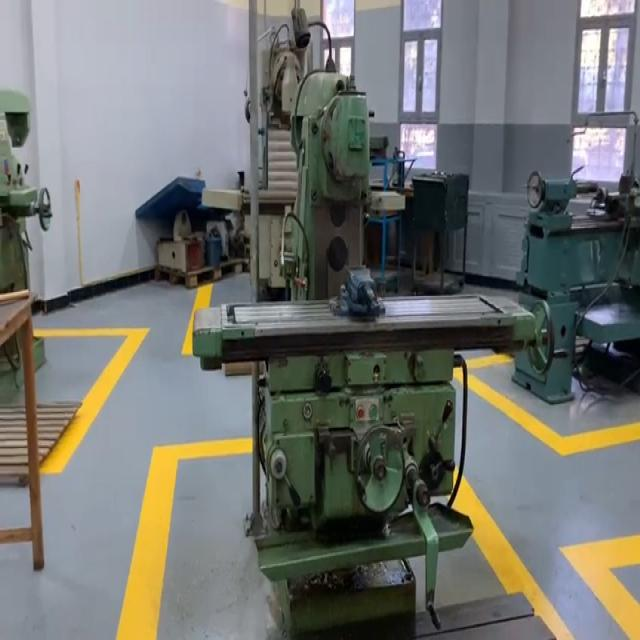fraiseuse: (185, 73, 556, 640)
